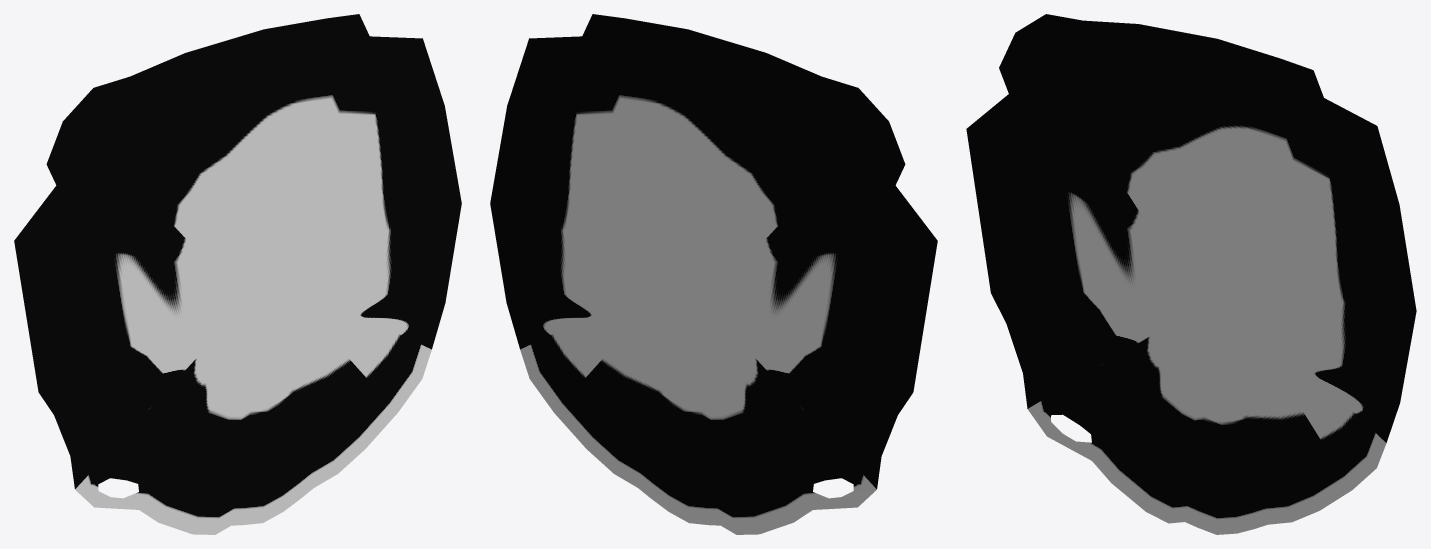
Rendered from scene_1_boat_paomo.FBX.
3 renders of one model, left to right at view 1: azimuth 30°, elevation 25°; view 2: azimuth 150°, elevation 25°; view 3: azimuth 330°, elevation 25°, orthographic.
Visible parts, largest first — view 1: scene_1_boat_paomo; view 2: scene_1_boat_paomo; view 3: scene_1_boat_paomo.
Boxes of the visible parts, x1,y1,x2,y2 form: scene_1_boat_paomo: (14,14,461,534); scene_1_boat_paomo: (490,14,937,534); scene_1_boat_paomo: (966,14,1416,534).
Bounding box in the file's own units: 150 × 158 × 0.0227.
1 material, 1 textured.
